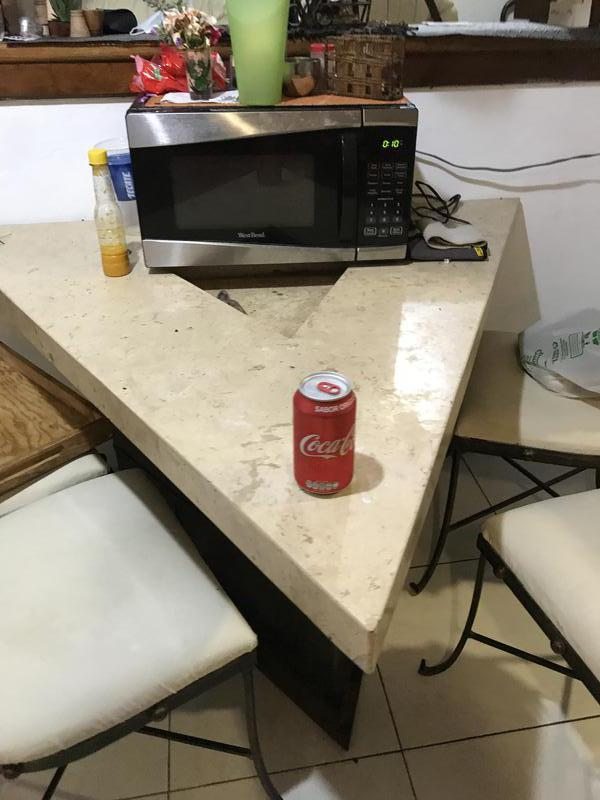coca_cola: (294, 372, 356, 498)
